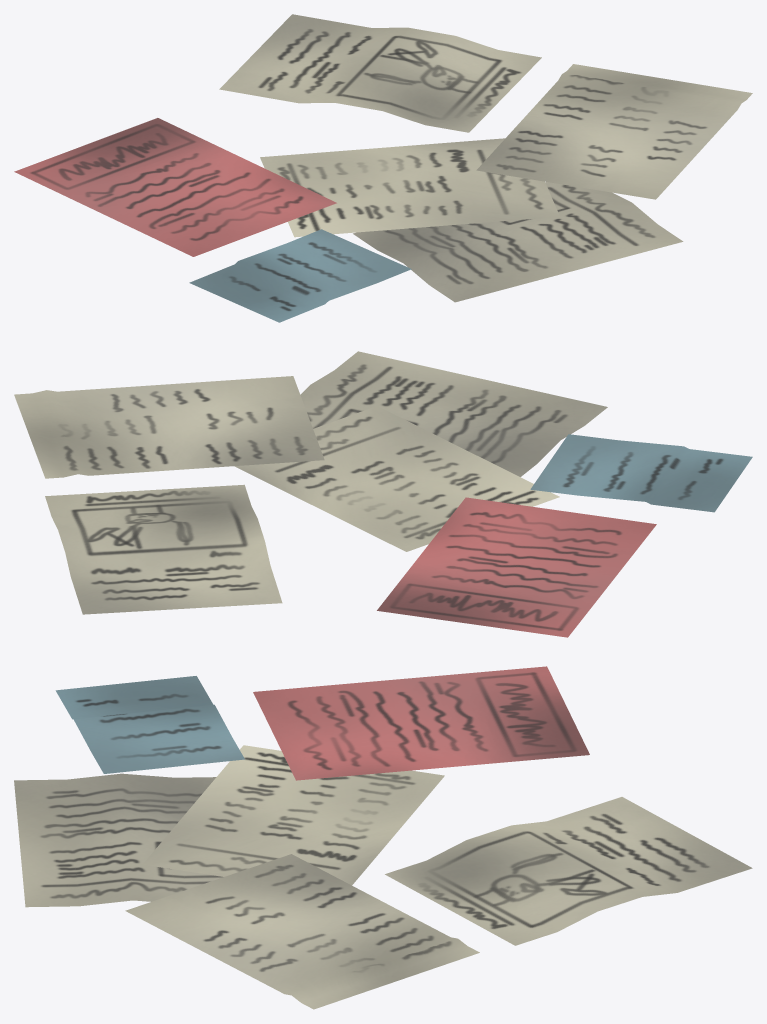
The model's file is Papers.fbx.
3 renders of one model, top to bottom at view 1: azimuth 30°, elevation 25°; view 2: azimuth 150°, elevation 25°; view 3: azimuth 270°, elevation 25°, orthographic. The views are drawn at different scales.
Visible parts, largest first — view 1: pCube19; view 2: pCube19; view 3: pCube19.
Boxes of the visible parts, <box> form: pCube19: <box>14,14,752,322</box>; pCube19: <box>14,351,752,637</box>; pCube19: <box>14,666,752,1009</box>.
Size of the model in its own units: 380 by 5.92 by 345.
